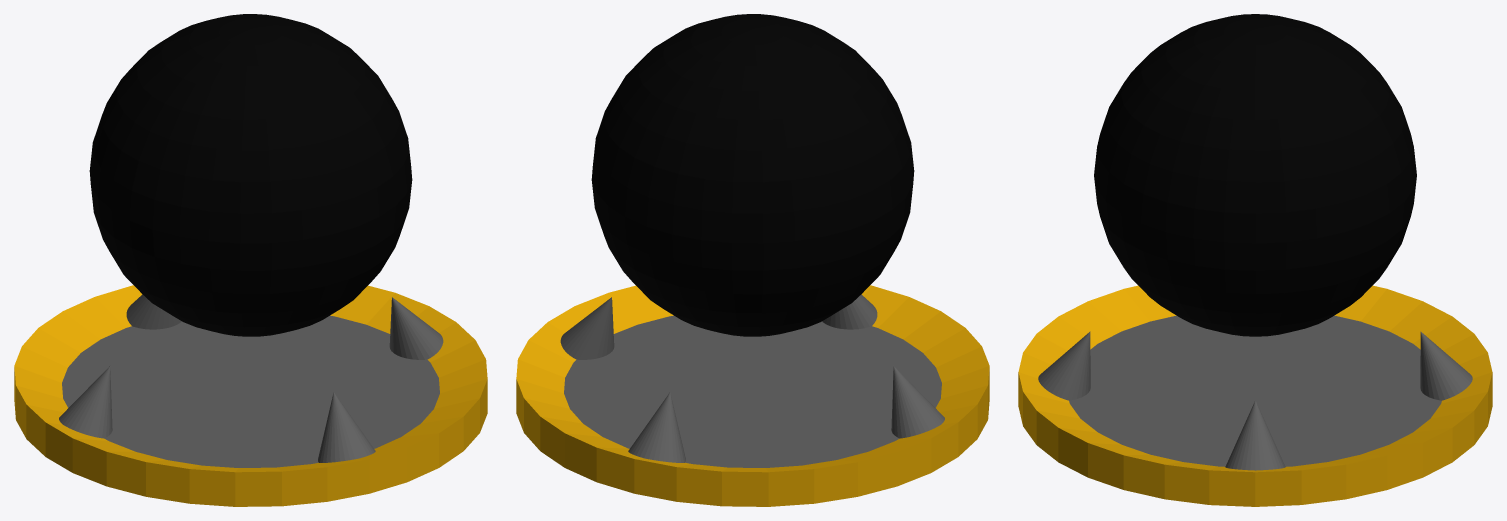
Rendered from Gibb Wand.glb.
3 views of the same model, side by side, from view 1: azimuth 30°, elevation 25°; view 2: azimuth 150°, elevation 25°; view 3: azimuth 270°, elevation 25° (orthographic).
Parts seen in each view (by area): view 1: 0 - New Moon, Stand; view 2: 0 - New Moon, Stand; view 3: 0 - New Moon, Stand.
Boxes of the visible parts, x1,y1,x2,y2 form: 0 - New Moon: (89, 14, 412, 336); Stand: (14, 285, 487, 506); 0 - New Moon: (591, 14, 914, 336); Stand: (516, 285, 989, 506); 0 - New Moon: (1094, 14, 1416, 336); Stand: (1018, 285, 1492, 506).
Size of the model in its own units: 0.1547 by 0.136 by 0.1547.
